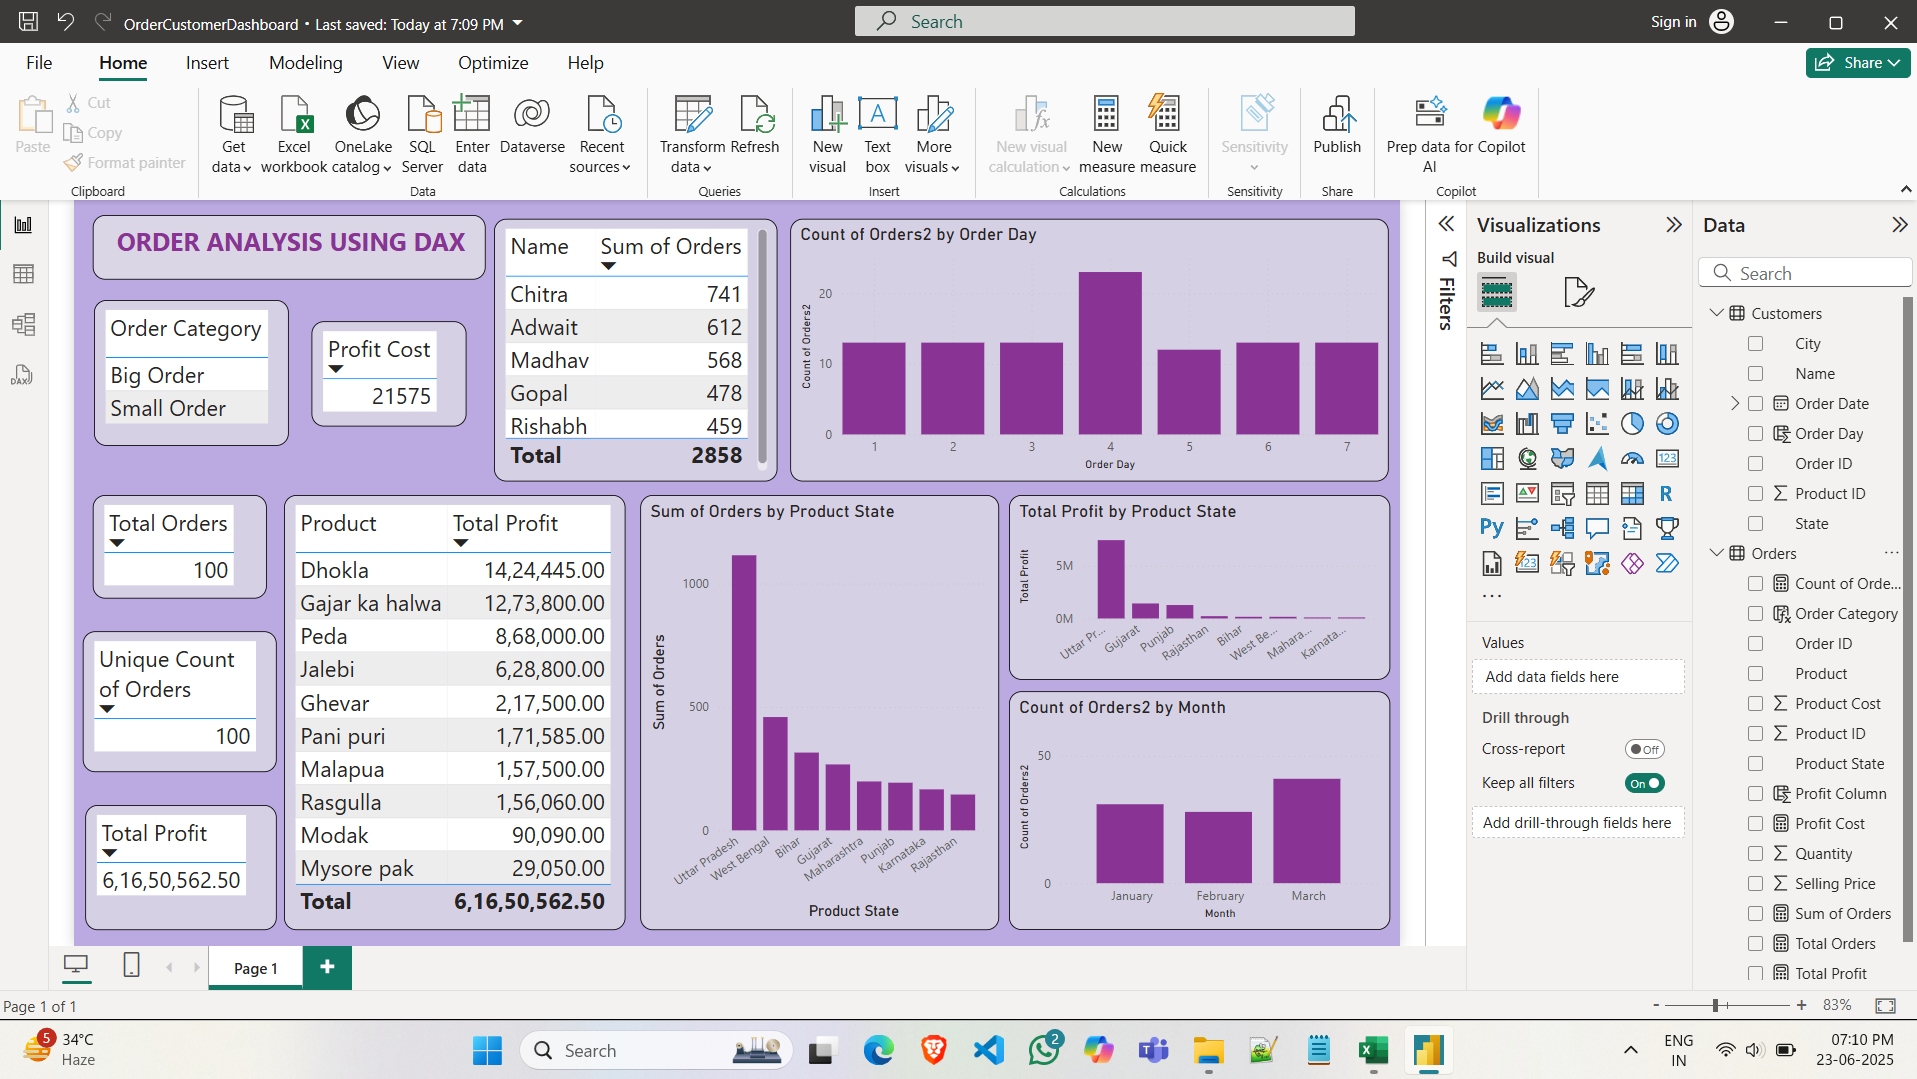

The page's visual inventory and layout, read from the dashboard file:
{"tool":"powerbi","page":{"name":"Page 1","canvas":[1280,720],"ordinal":0},"visuals":[{"type":"tableEx","fields":{"Values":["Orders.Count of Orders"]},"box":[18.1,284.7,167.7,100.1],"z":0},{"type":"tableEx","fields":{"Values":["Orders.Unique Count of Orders"]},"box":[8.4,416.2,187,136.3],"z":1000},{"type":"tableEx","fields":{"Values":["Customers.Name","Orders.Sum of Orders"]},"box":[405.4,18.1,273.9,253.4],"z":2000},{"type":"tableEx","fields":{"Values":["Orders.Profit Cost"]},"box":[229.2,117,149.6,101.3],"z":3000},{"type":"tableEx","fields":{"Values":["Orders.Total Profit"]},"box":[10.9,583.9,184.6,120.6],"z":4000},{"type":"tableEx","fields":{"Values":["Orders.Product","Orders.Total Profit"]},"box":[202.7,284.7,329.4,419.8],"z":5000},{"type":"columnChart","fields":{"Category":["Customers.Order Day"],"Y":["Orders.Count of Orders2"]},"box":[691.3,18.1,577.9,253.4],"z":6000},{"type":"columnChart","fields":{"Category":["Customers.Order Date.Variation.Date Hierarchy.Month","Customers.Order Date.Variation.Date Hierarchy.Day"],"Y":["Orders.Count of Orders2"]},"box":[902.4,474.1,368,230.4],"z":7000},{"type":"tableEx","fields":{"Values":["Orders.Order Category"]},"box":[19.3,96.5,188.2,141.2],"z":8000},{"type":"columnChart","fields":{"Category":["Orders.Product State"],"Y":["Orders.Sum of Orders"]},"box":[546.5,284.7,346.2,419.8],"z":9000},{"type":"textbox","box":[18.1,14.5,378.8,62.7],"z":10000},{"type":"columnChart","fields":{"Category":["Orders.Product State"],"Y":["Orders.Total Profit"]},"box":[902.4,284.7,368,178.6],"z":11000}]}

Visuals, with their boxes on the page's 1280x720 design canvas (x1, y1, x2, y2). These are canvas units, not pixel positions in the 1917x1079 screenshot, which may show the page scaled, cropped or inside an application window:
tableEx - Orders.Count of Orders: box(18, 285, 186, 385)
tableEx - Orders.Unique Count of Orders: box(8, 416, 195, 552)
tableEx - Customers.Name x Orders.Sum of Orders: box(405, 18, 679, 272)
tableEx - Orders.Profit Cost: box(229, 117, 379, 218)
tableEx - Orders.Total Profit: box(11, 584, 196, 704)
tableEx - Orders.Product x Orders.Total Profit: box(203, 285, 532, 704)
columnChart - Customers.Order Day x Orders.Count of Orders2: box(691, 18, 1269, 272)
columnChart - Customers.Order Date.Variation.Date Hierarchy.Month x Customers.Order Date.Variation.Date Hierarchy.Day: box(902, 474, 1270, 704)
tableEx - Orders.Order Category: box(19, 96, 208, 238)
columnChart - Orders.Product State x Orders.Sum of Orders: box(546, 285, 893, 704)
textbox: box(18, 14, 397, 77)
columnChart - Orders.Product State x Orders.Total Profit: box(902, 285, 1270, 463)
